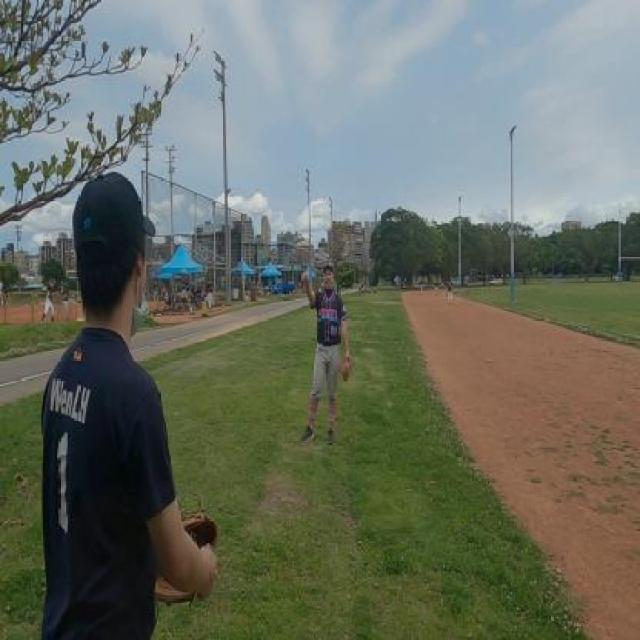baseball: (297, 235, 301, 242)
